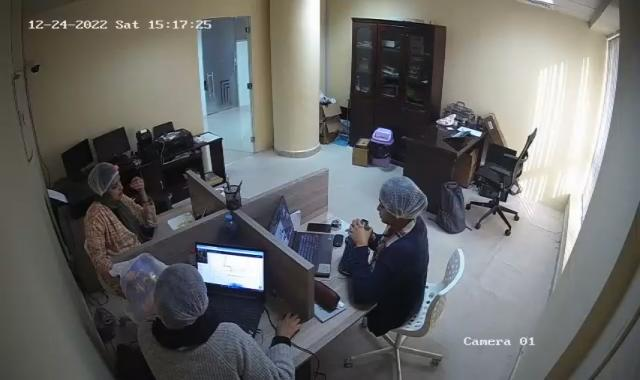hairnet: (153, 256, 207, 326), (376, 171, 428, 219), (86, 160, 123, 200)
